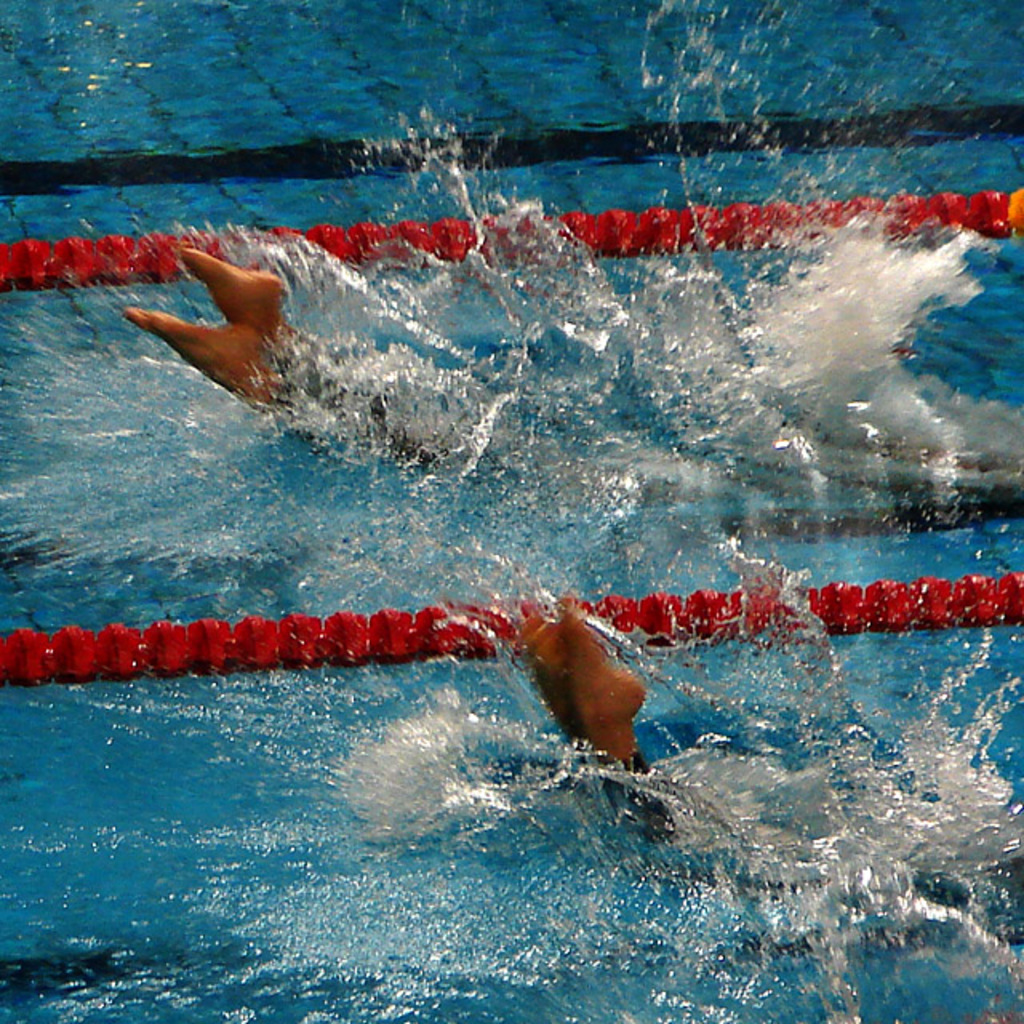Person: (507, 592, 1024, 956), (124, 246, 448, 473)
